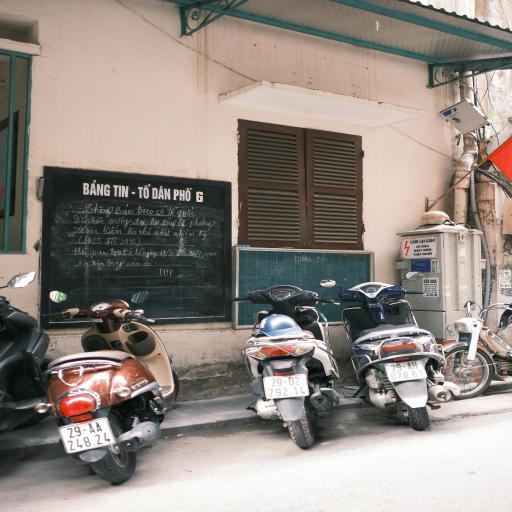place: (262, 373, 318, 400), (62, 424, 120, 450), (382, 361, 440, 381)
